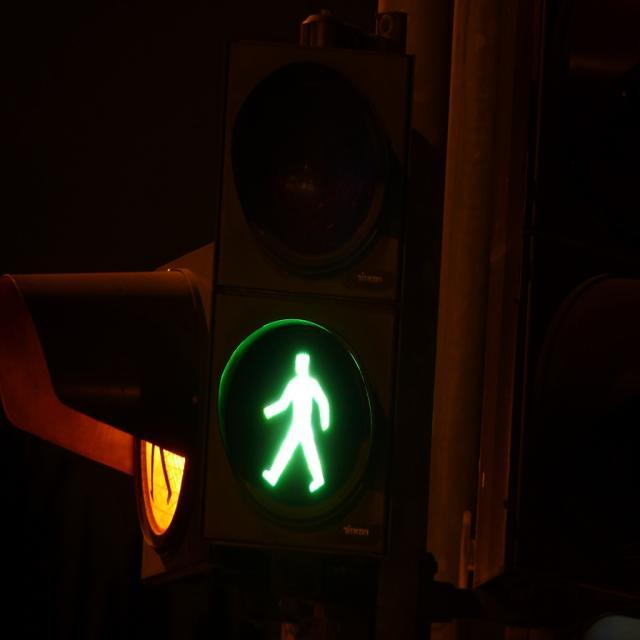traffic light: (211, 25, 402, 555)
